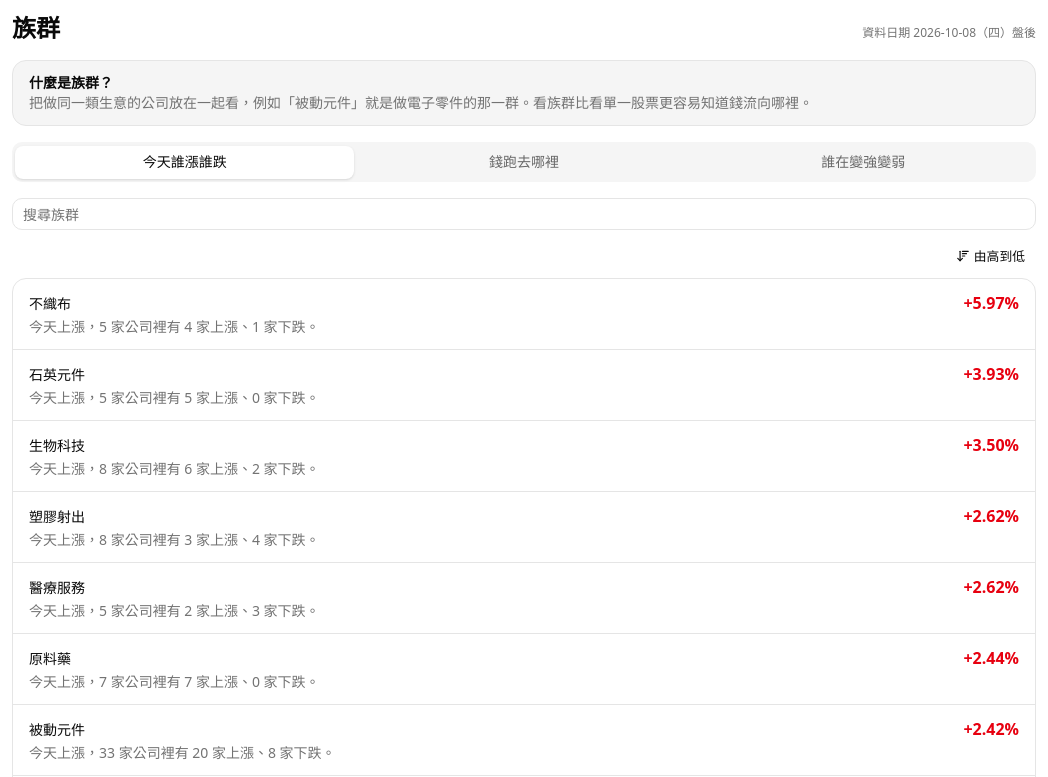
Scenario: SectorsScreen › reverses the order with the sort toggle
This screenshot has width=1048, height=777.
Click the button "由高到低". click: [990, 256]
box: [945, 242, 1036, 270]
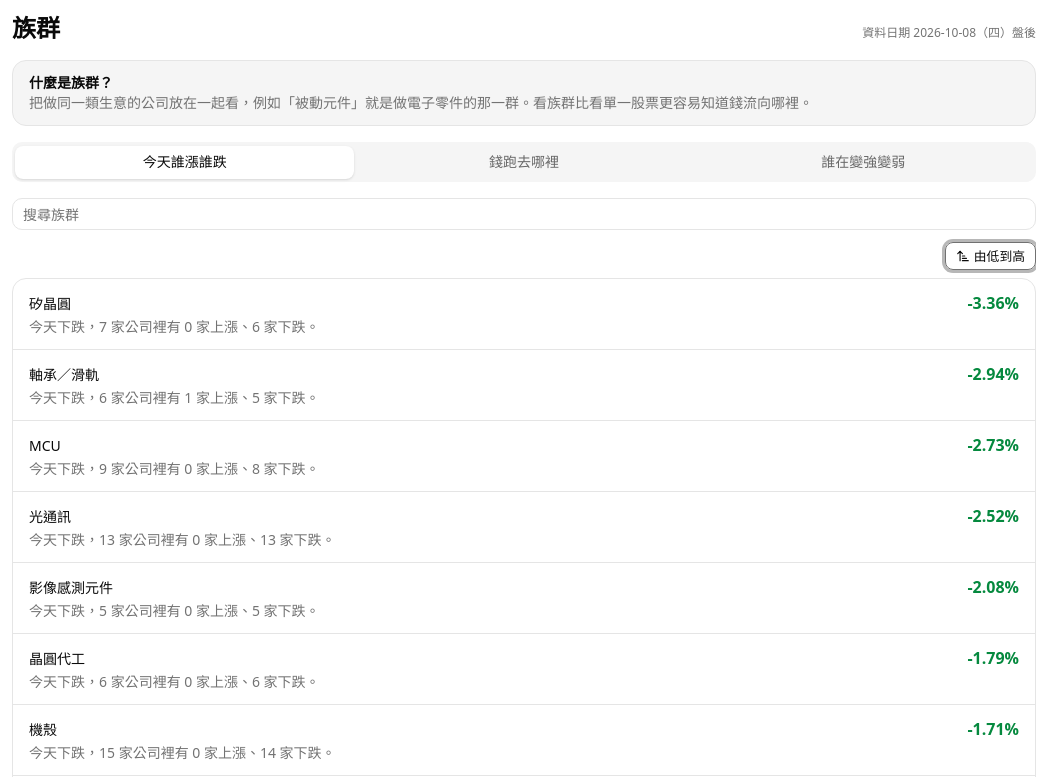
Expected: the text "矽晶圓" is shown, [29, 294, 71, 313]
Result: the button "由低到高" is shown at [945, 242, 1036, 270]
